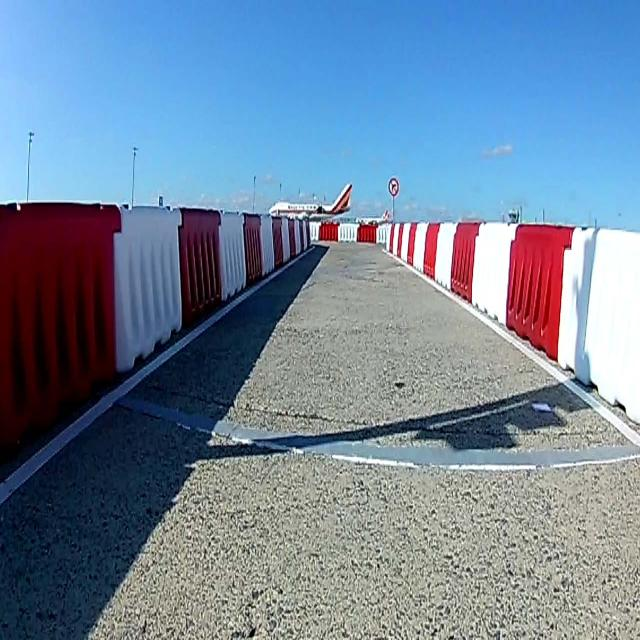sagadonulmez: (389, 178, 399, 196)
